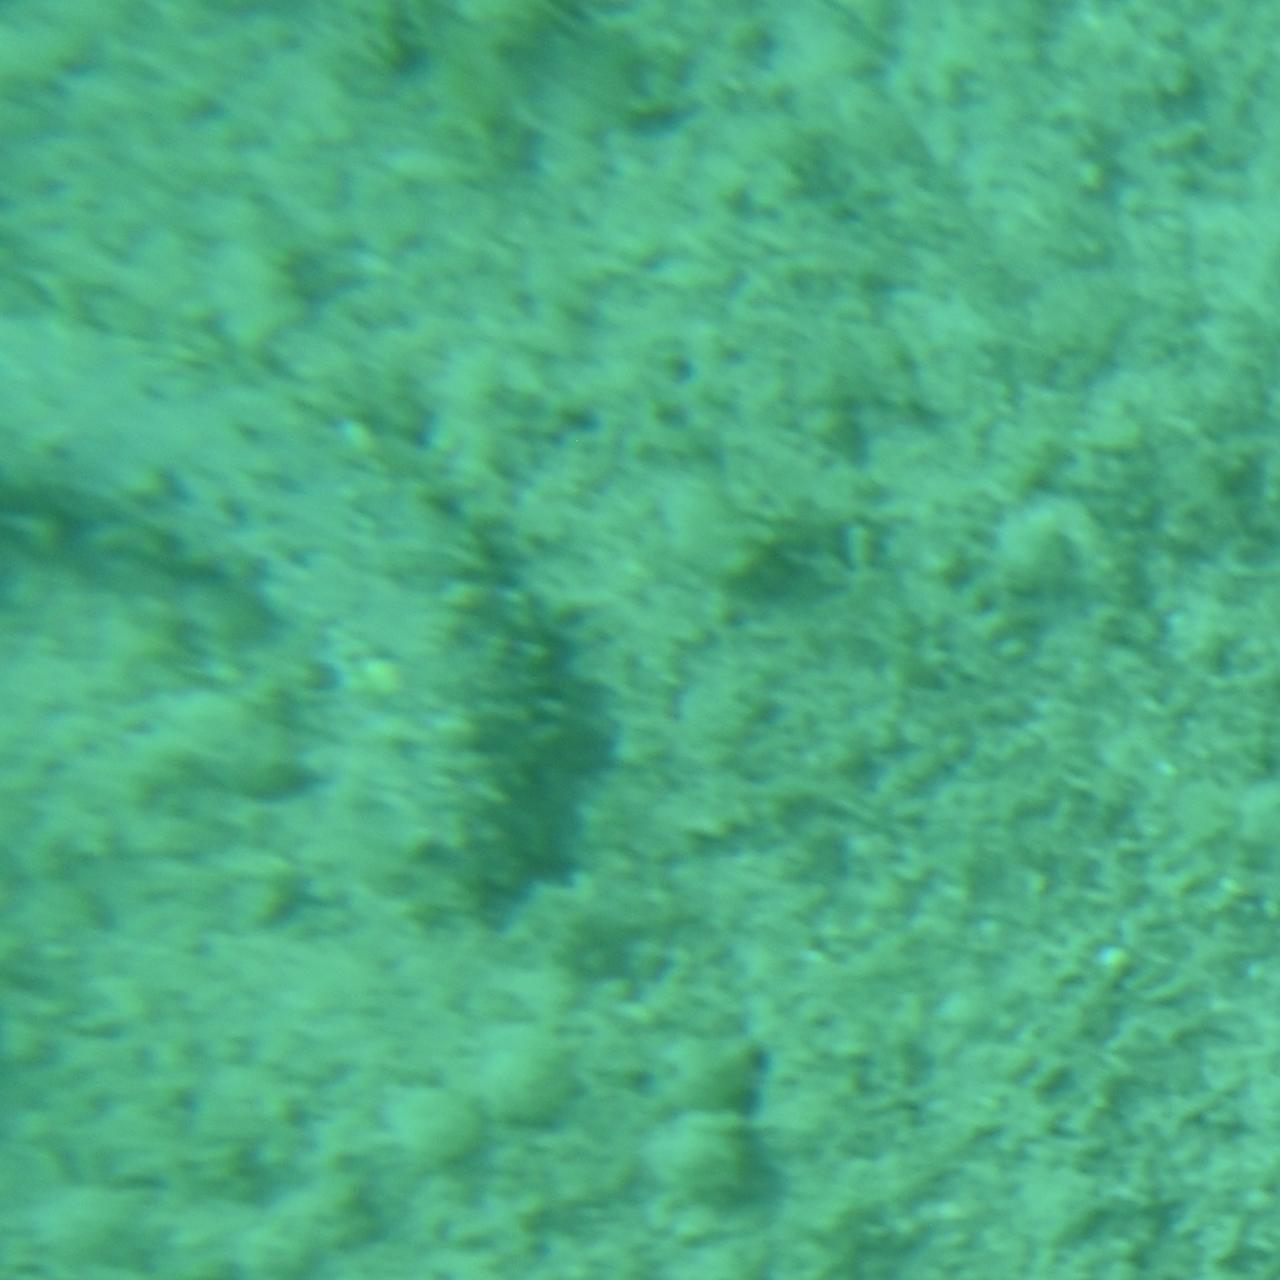Holothuria tubulosa: (0, 302, 604, 978)
